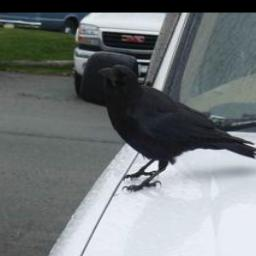Crow: (100, 63, 256, 193)
